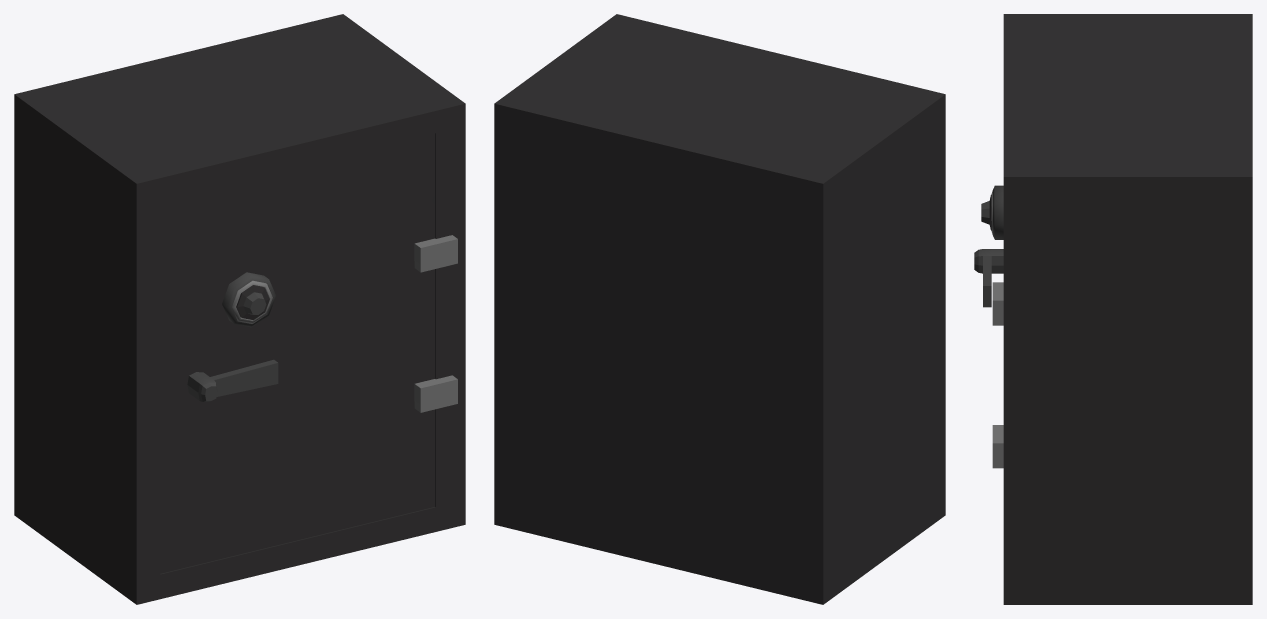
The model's file is Caja_Fuerte.fbx.
The picture shows the model from 3 angles, left to right: view 1: azimuth 30°, elevation 25°; view 2: azimuth 150°, elevation 25°; view 3: azimuth 270°, elevation 25°; orthographic projection.
Parts seen in each view (by area): view 1: SecuritySafe, Door_SS, Mango, Cerradura_01, Cerradura_02; view 2: SecuritySafe; view 3: SecuritySafe, Door_SS, Mango, Cerradura_01.
Part boxes in pixels (x1,y1,x2,y2): SecuritySafe: (14,14,465,604); Door_SS: (160,133,457,573); Mango: (187,359,278,401); Cerradura_01: (222,272,276,327); Cerradura_02: (236,285,269,320); SecuritySafe: (494,14,945,604); SecuritySafe: (1003,14,1252,604); Door_SS: (992,282,1003,468); Mango: (974,249,1003,307); Cerradura_01: (991,185,1003,239).
Bounding box in the file's own units: 59.99 × 73.38 × 43.21.
